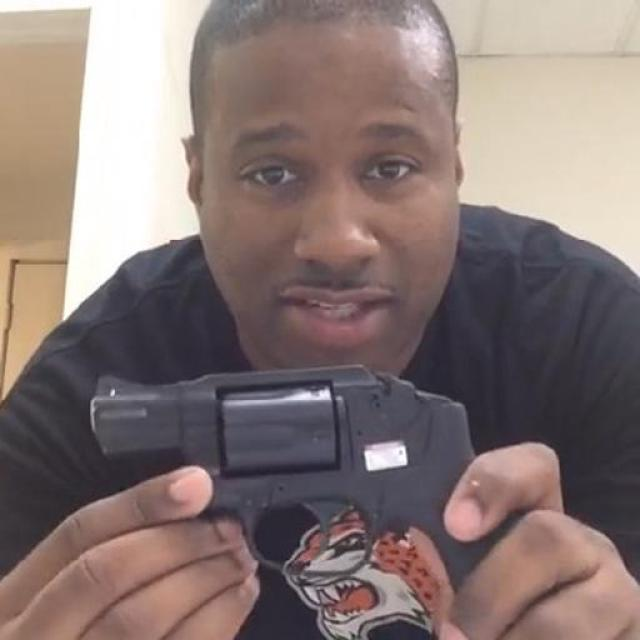pistol: (85, 356, 531, 631)
